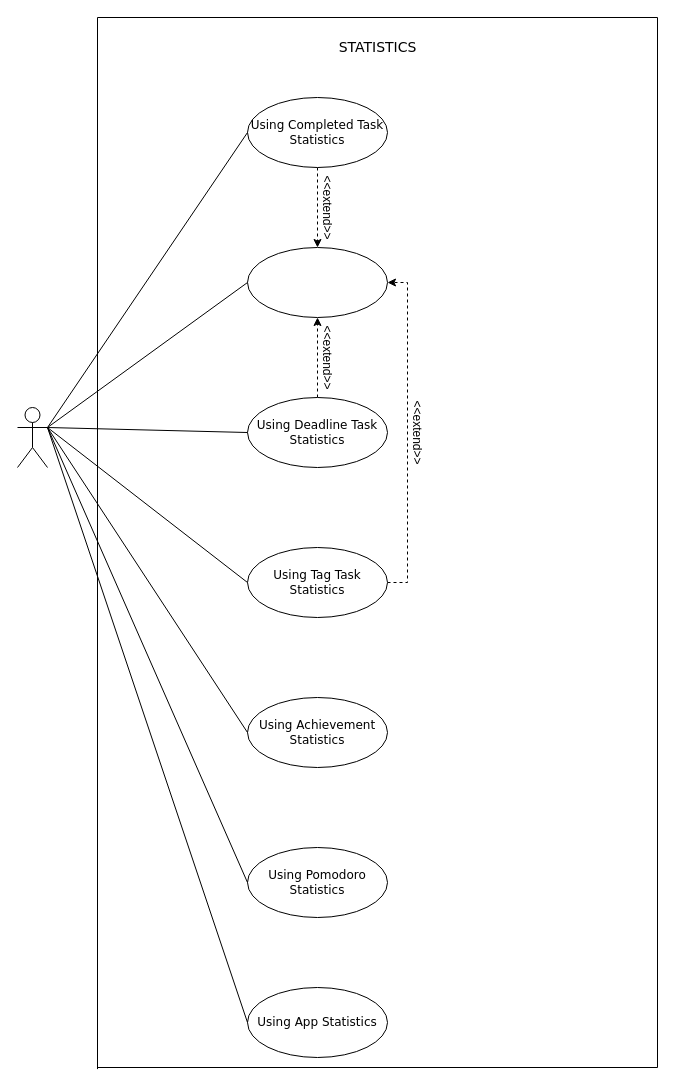
Some shapes in this 676 by 1088 pixel diagram are drawn without their labels. The shapes that lost their labels are listed below. From the top down, each one's centre as x and y in pixels, then its label:
At point 317,282: "Using All Task Statistics".
At point 32,437: "User".
